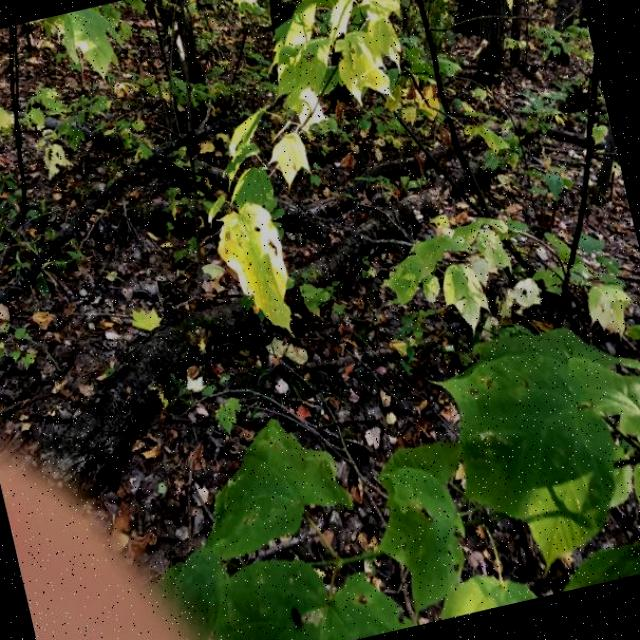fallen_object: (14, 138, 607, 518), (0, 0, 335, 322)
